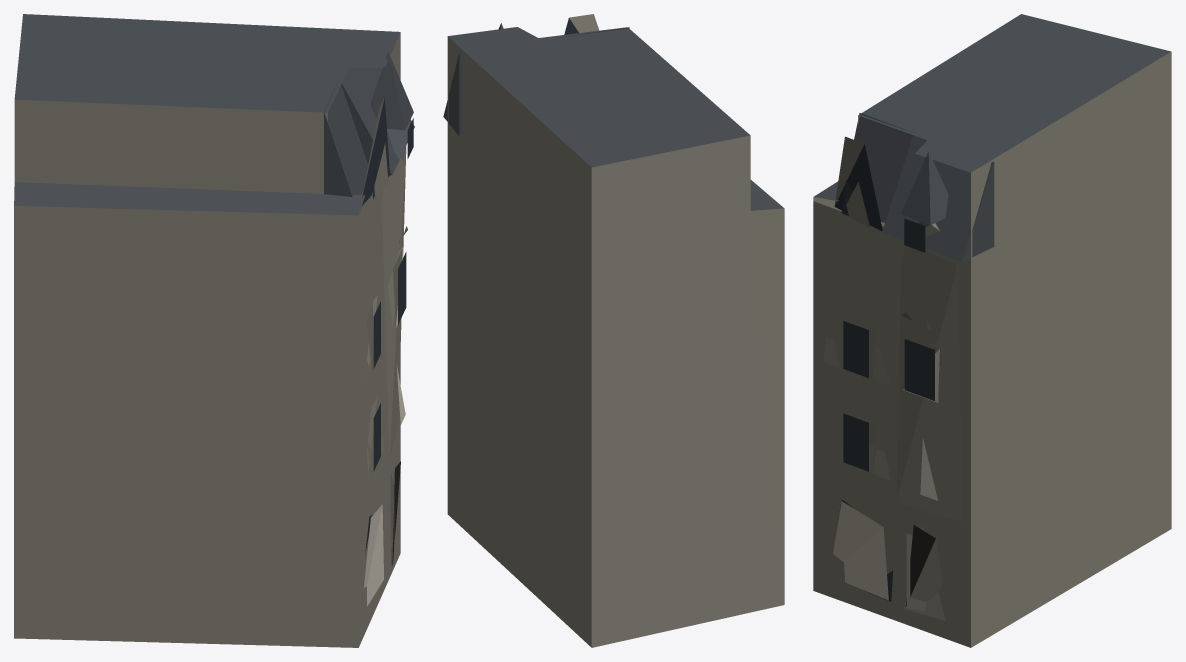
Rendered from damrak-37.lod2.glb.
3 views of the same model, side by side, from view 1: azimuth 30°, elevation 25°; view 2: azimuth 150°, elevation 25°; view 3: azimuth 270°, elevation 25° (orthographic). The views are drawn at different scales.
Parts seen in each view (by area): view 1: lod2; view 2: lod2; view 3: lod2.
Boxes of the visible parts, bbox=[...] form: lod2: bbox=[14, 14, 414, 647]; lod2: bbox=[443, 14, 784, 647]; lod2: bbox=[813, 14, 1171, 647].
Bounding box in the file's own units: 16.48 × 21.52 × 14.52.
